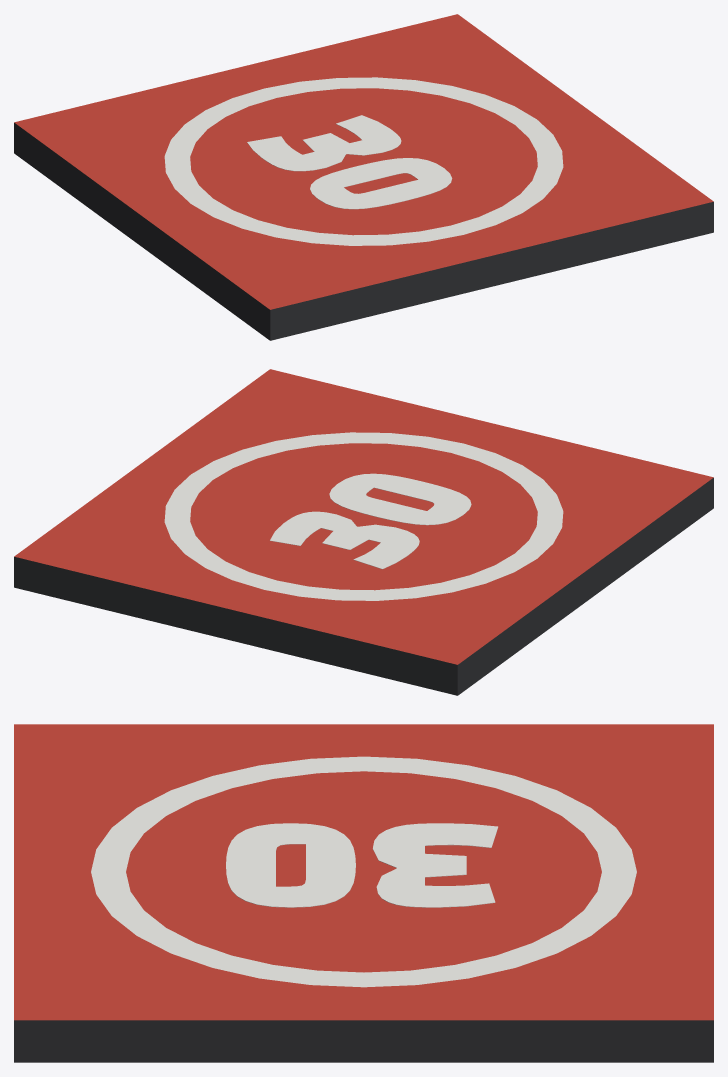
The model's file is SC_Gnd_Road_SchoolZone_30_3x3.gltf.
3 renders of one model, top to bottom at view 1: azimuth 30°, elevation 25°; view 2: azimuth 150°, elevation 25°; view 3: azimuth 270°, elevation 25°, orthographic. The views are drawn at different scales.
Parts seen in each view (by area): view 1: SC_Gnd_Road_SchoolZone_30_3x3; view 2: SC_Gnd_Road_SchoolZone_30_3x3; view 3: SC_Gnd_Road_SchoolZone_30_3x3.
Boxes of the visible parts, x1,y1,x2,y2 form: SC_Gnd_Road_SchoolZone_30_3x3: (14,14,713,340); SC_Gnd_Road_SchoolZone_30_3x3: (14,369,713,695); SC_Gnd_Road_SchoolZone_30_3x3: (14,724,713,1062).
Size of the model in its own units: 3 by 0.203 by 3.
1 material, 1 textured.
